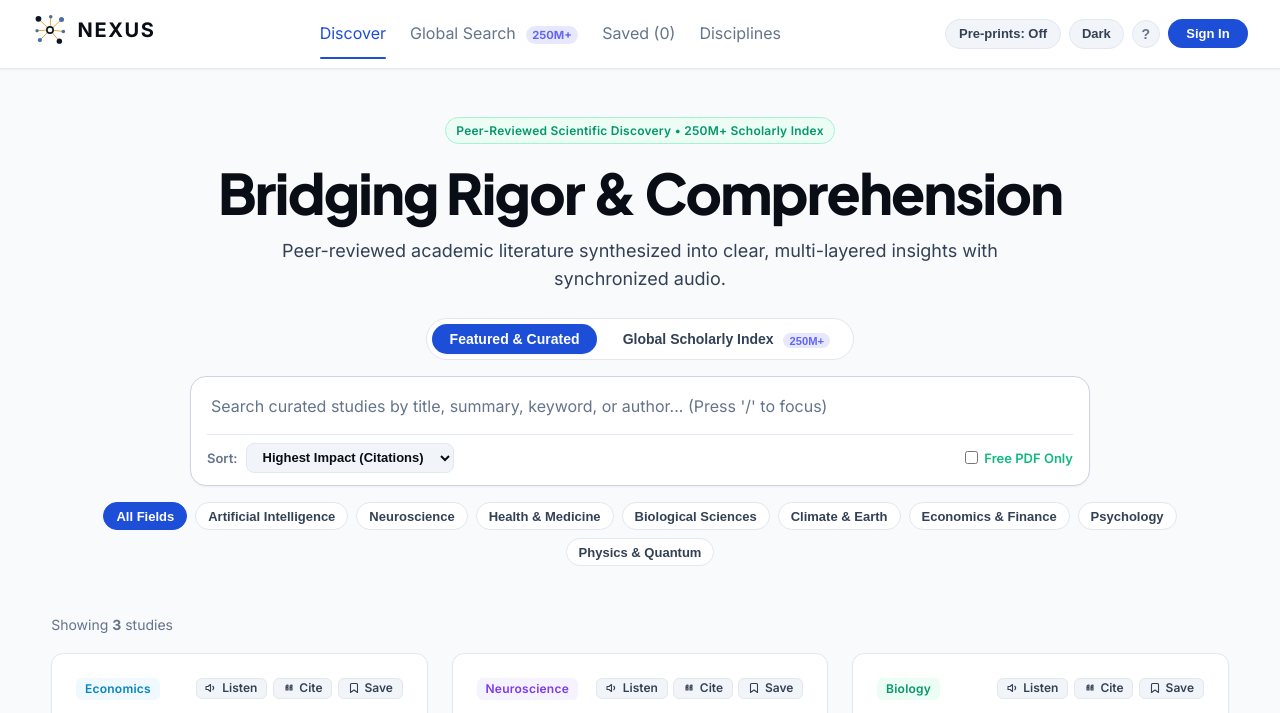
Test: App › opens and closes curation modal
Click the button "Disciplines". click: (740, 34)
box: [699,13,781,55]
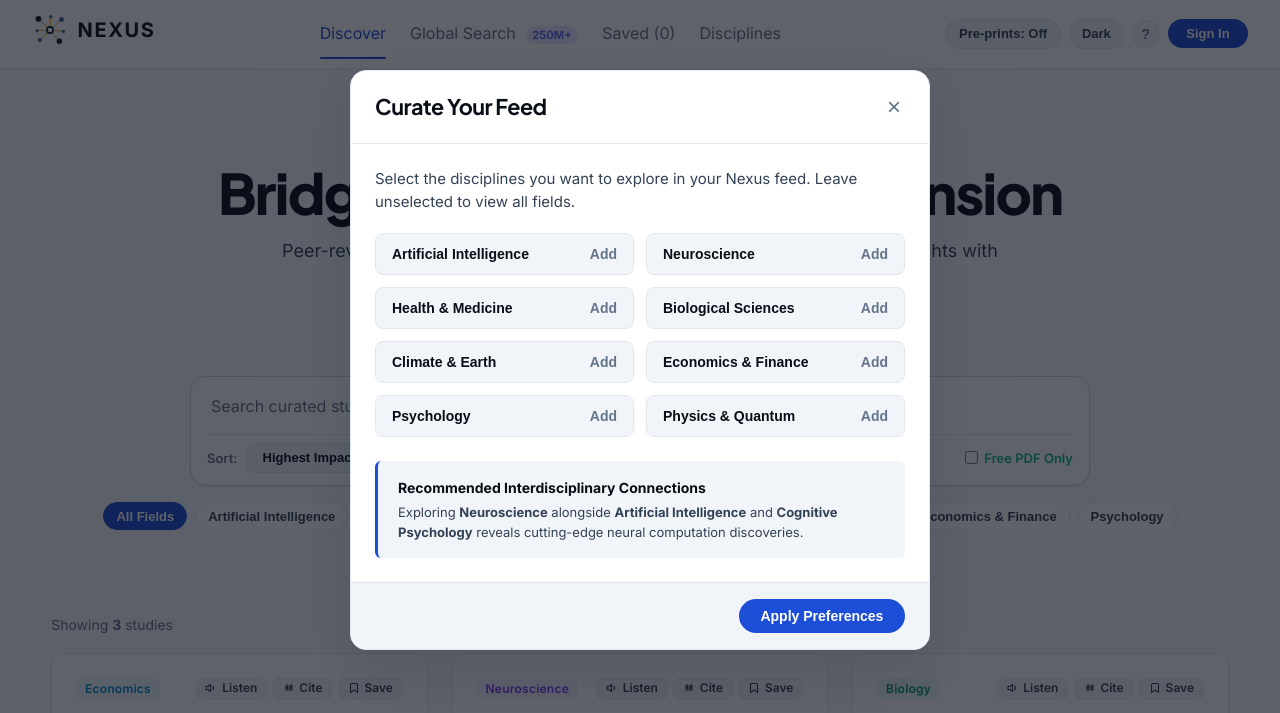
Check: the heading "Curate Your Feed" is shown, box [375,93,546,121]
Click the button named "Close curation modal". click: (894, 107)
box: [883,91,905,123]
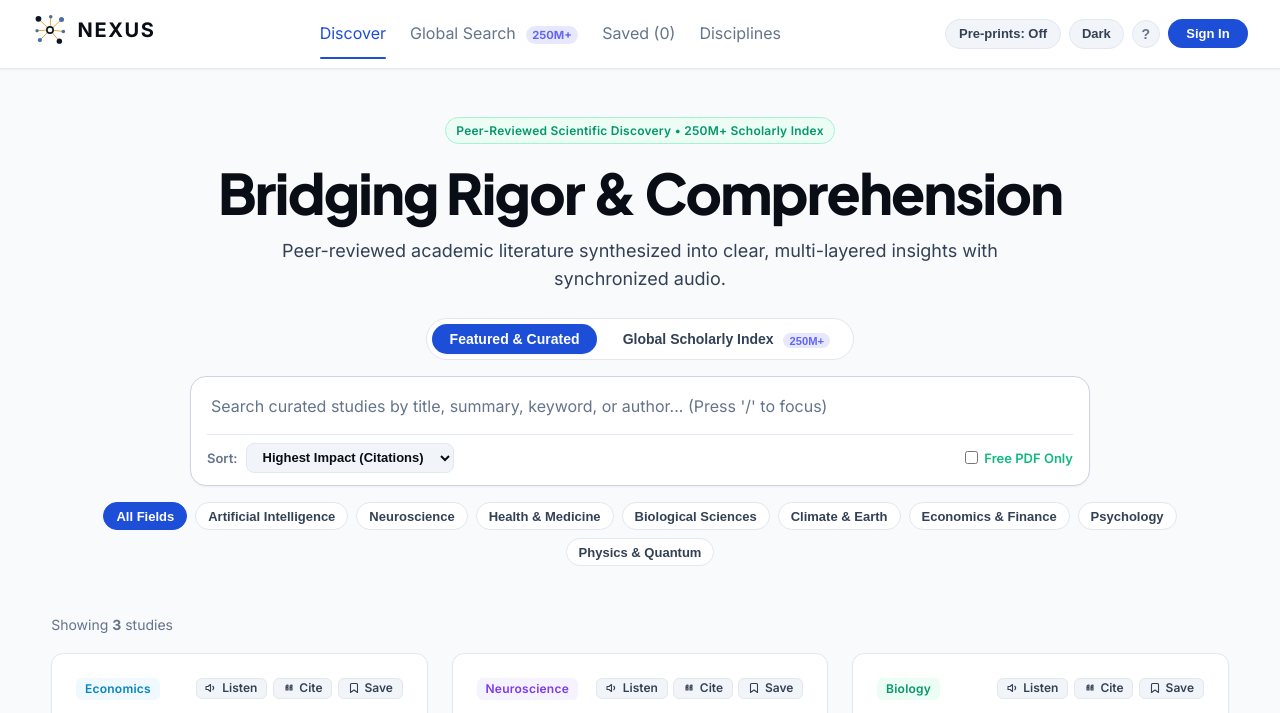
Check: the heading "Curate Your Feed" is gone
